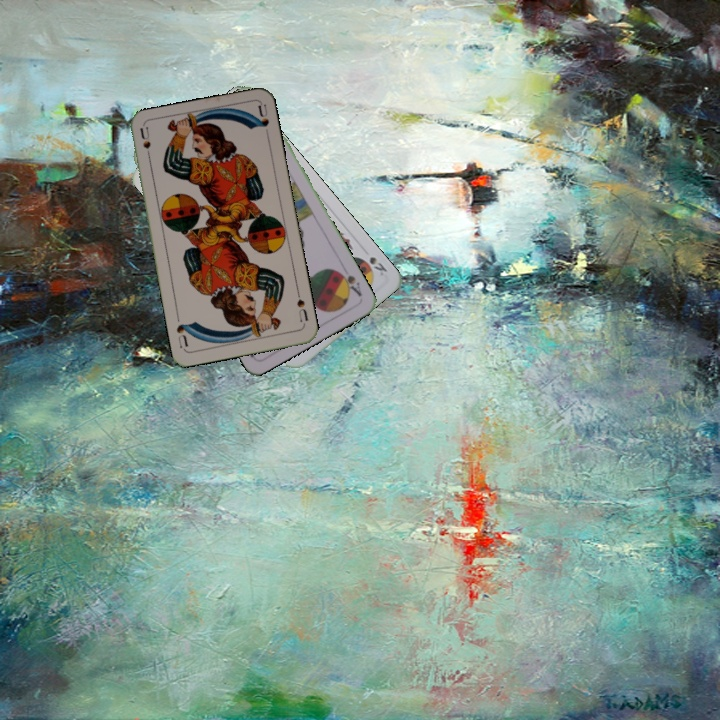SA: (334, 267, 364, 299)
SK: (355, 251, 390, 278)
SU: (293, 287, 311, 328), (136, 124, 154, 165)
